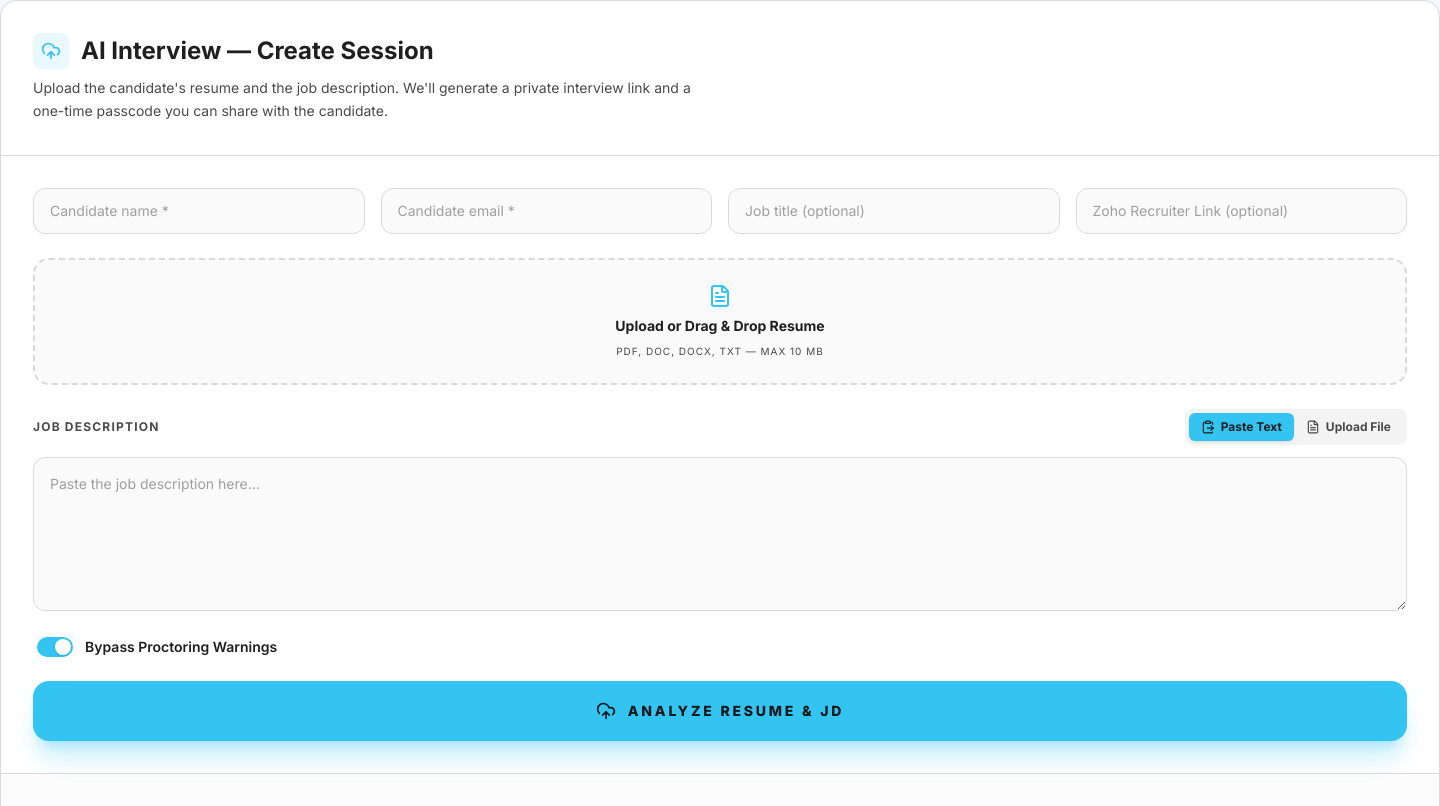
AIInterviewManager › allows toggling bypass proctoring with confirmation dialog when not submitting
// Clicking toggle when active should toggle it off without modal
Click the switch with id "bypass-proctoring-toggle" at (55, 646), box x1=37 y1=636 x2=73 y2=656
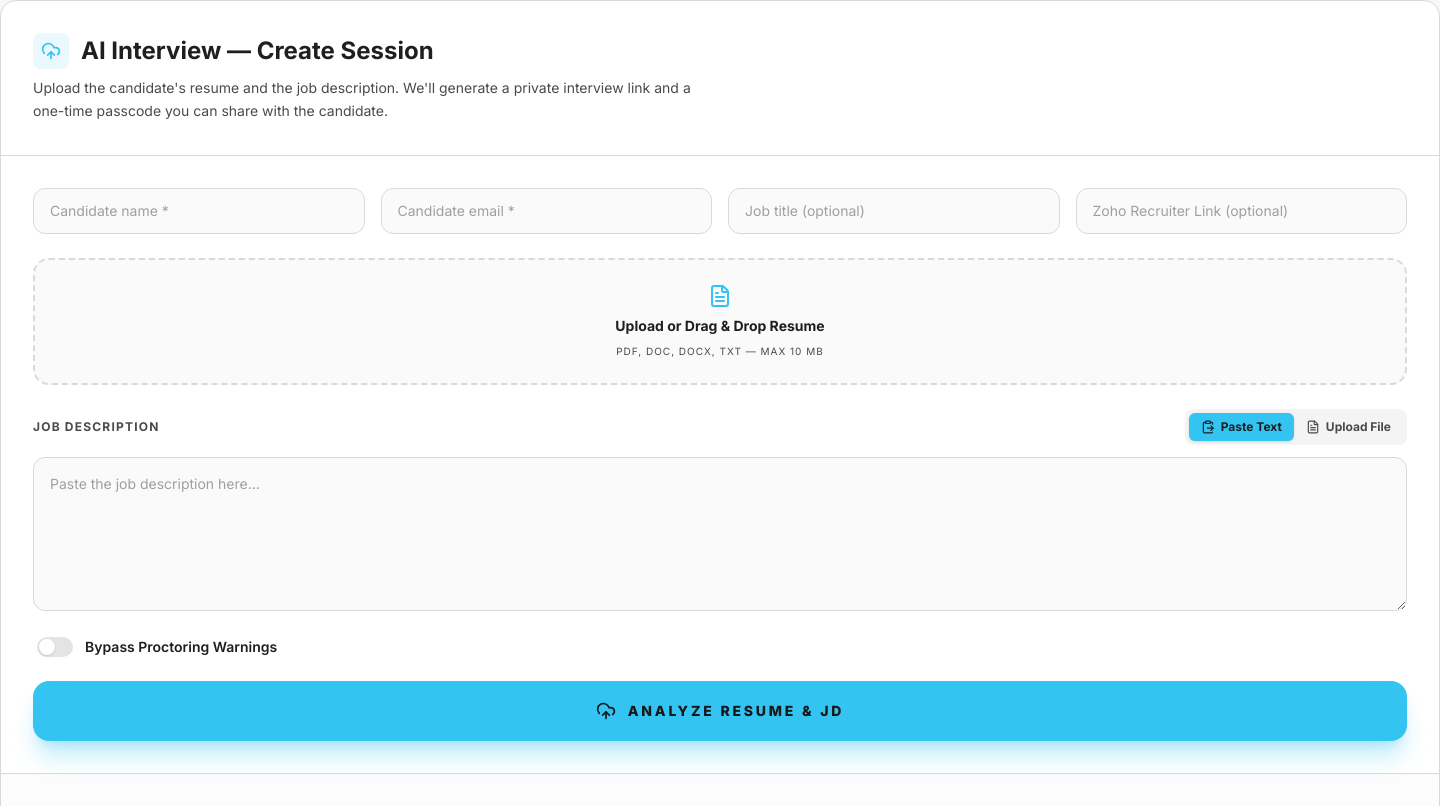
Expected: the text "Confirm Bypass Proctoring" is not shown
Result: the switch with id "bypass-proctoring-toggle" is not checked
// Clicking toggle when off should open confirm modal
Click the switch with id "bypass-proctoring-toggle" at (55, 646), box x1=37 y1=636 x2=73 y2=656
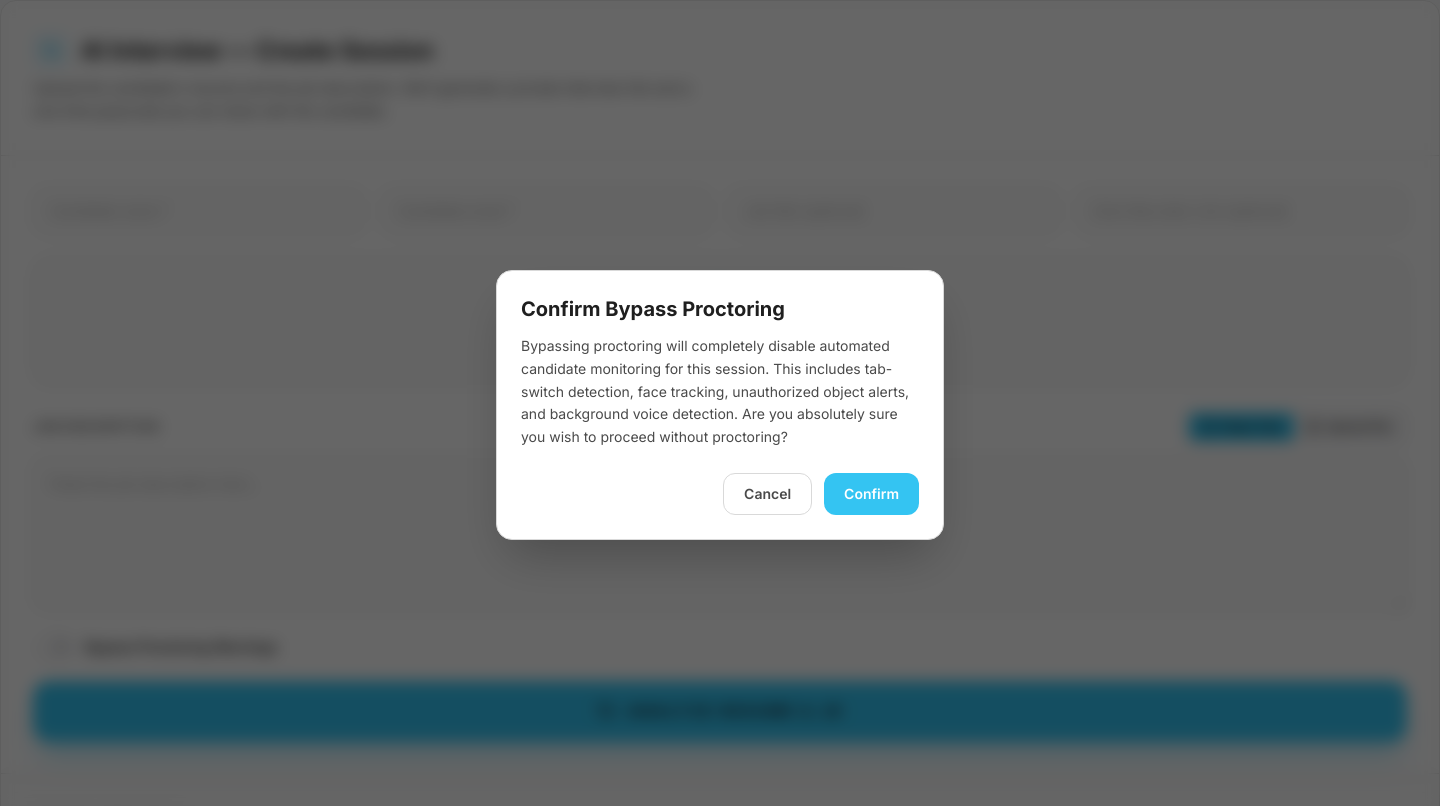
Result: the heading "Confirm Bypass Proctoring" is shown at x1=521 y1=297 x2=785 y2=321
// Confirm bypass
Click the button "Confirm" at (872, 494), box x1=824 y1=473 x2=919 y2=515
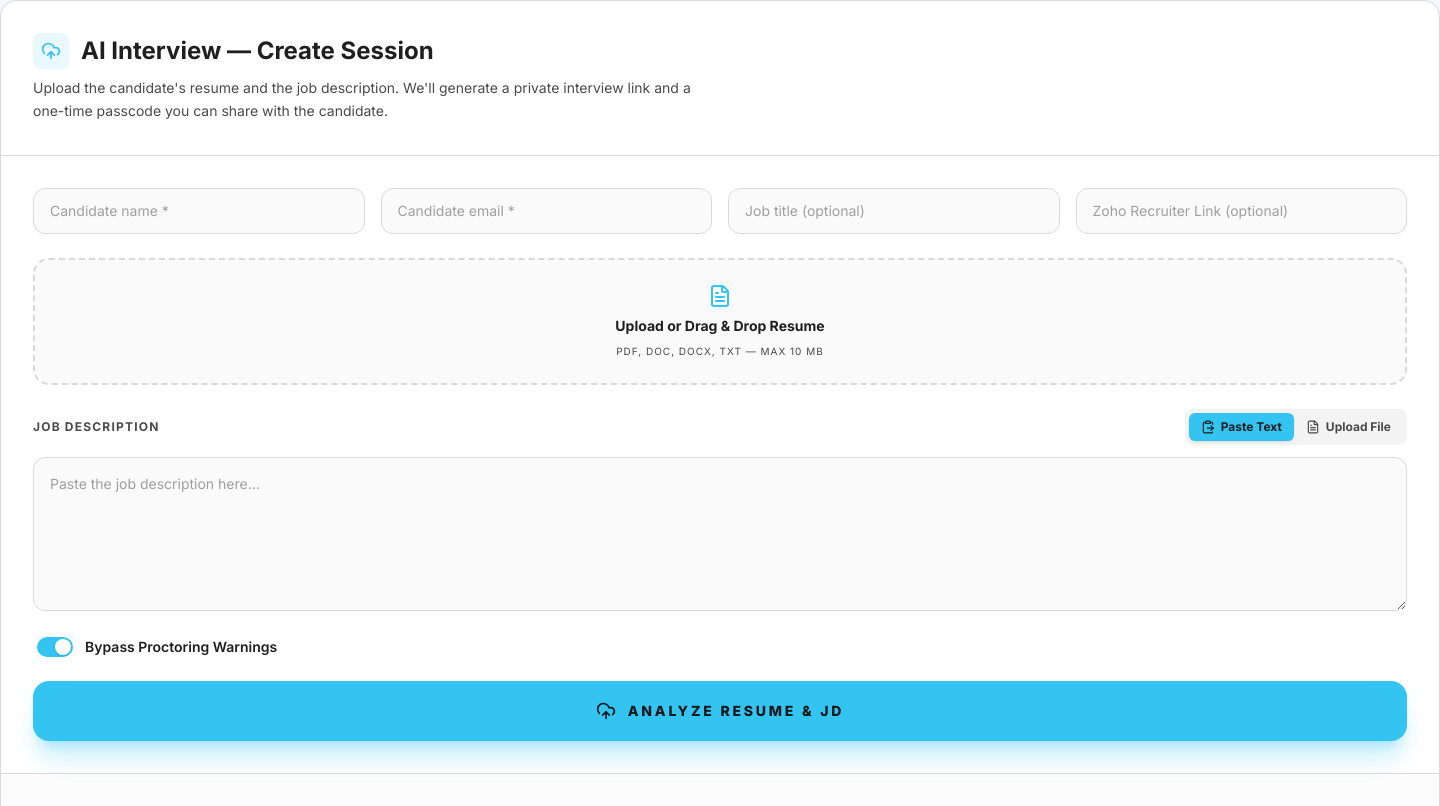
Result: the heading "Confirm Bypass Proctoring" is gone
